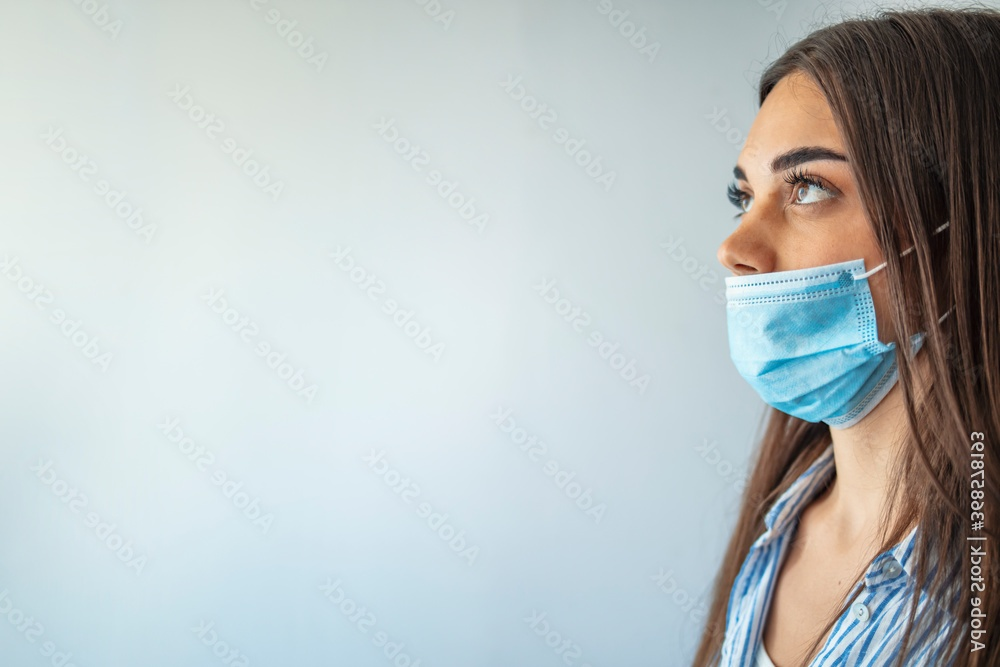mask_weared_incorrect: (713, 18, 976, 425)
